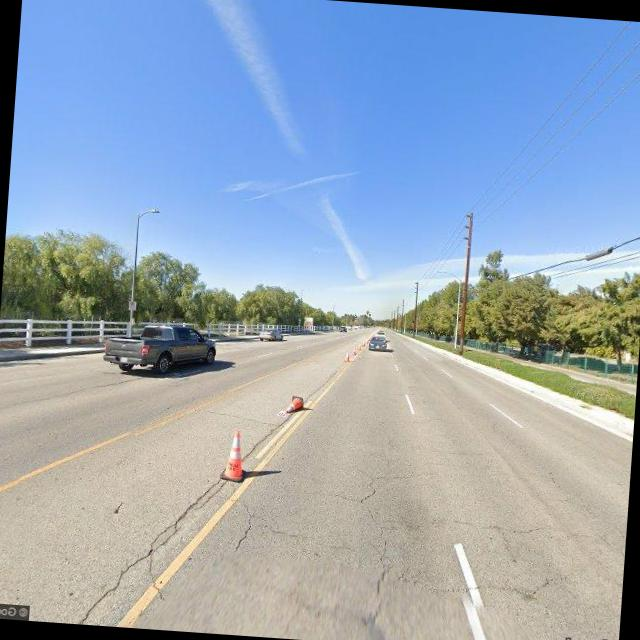crack: (74, 370, 318, 636), (351, 465, 403, 640), (437, 511, 608, 542), (434, 570, 576, 600), (200, 404, 282, 426), (232, 500, 256, 552)
